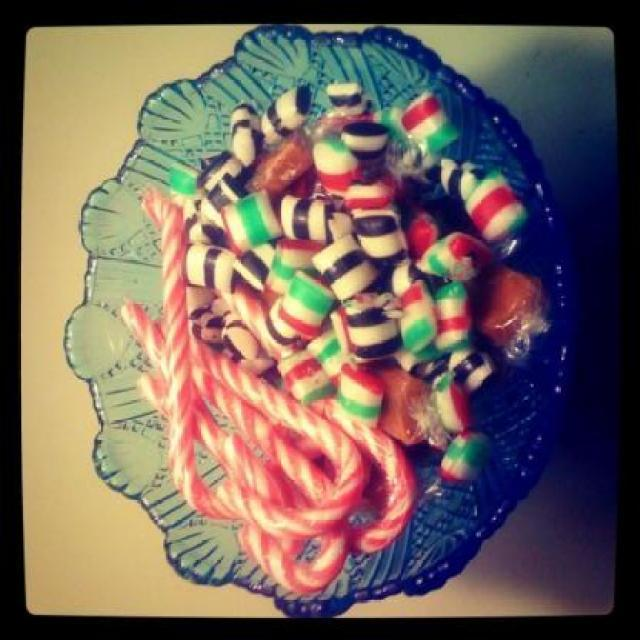Candy: (129, 65, 545, 568)
